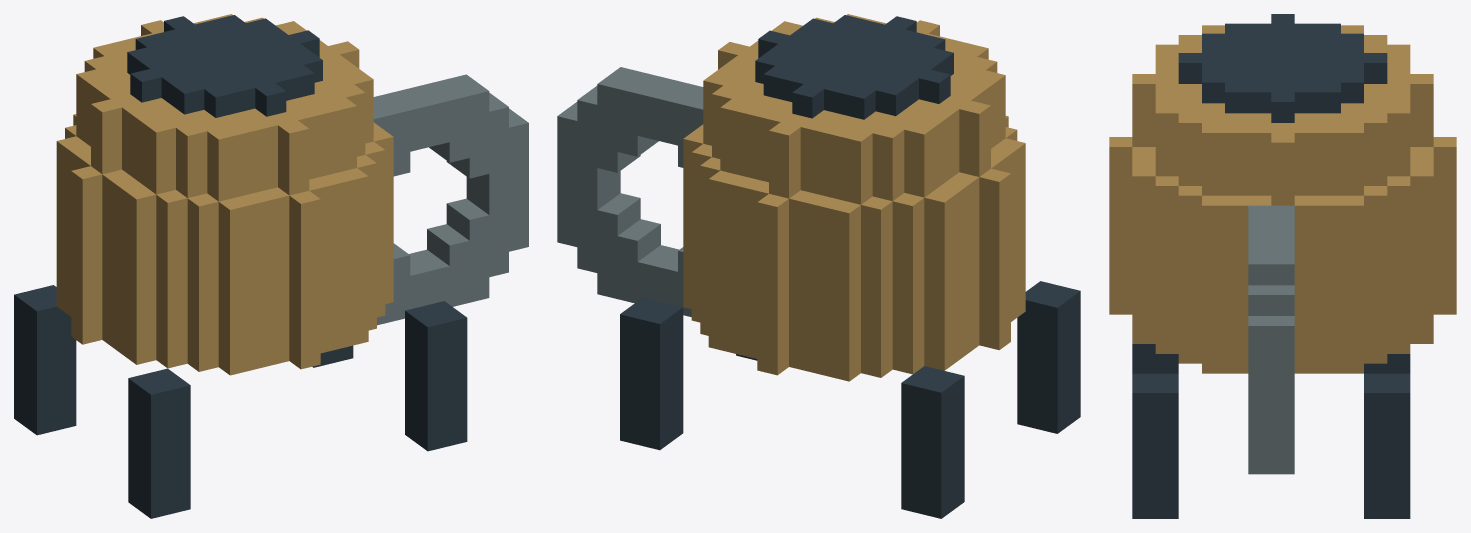
The model's file is construction-02.glb.
3 views of the same model, side by side, from view 1: azimuth 30°, elevation 25°; view 2: azimuth 150°, elevation 25°; view 3: azimuth 270°, elevation 25° (orthographic).
Parts seen in each view (by area): view 1: Cement mixer; view 2: Cement mixer; view 3: Cement mixer.
Boxes of the visible parts, x1,y1,x2,y2 form: Cement mixer: (14,14,528,518); Cement mixer: (557,14,1080,518); Cement mixer: (1109,14,1456,518).
Size of the model in its own units: 1.76 by 1.44 by 1.2.
